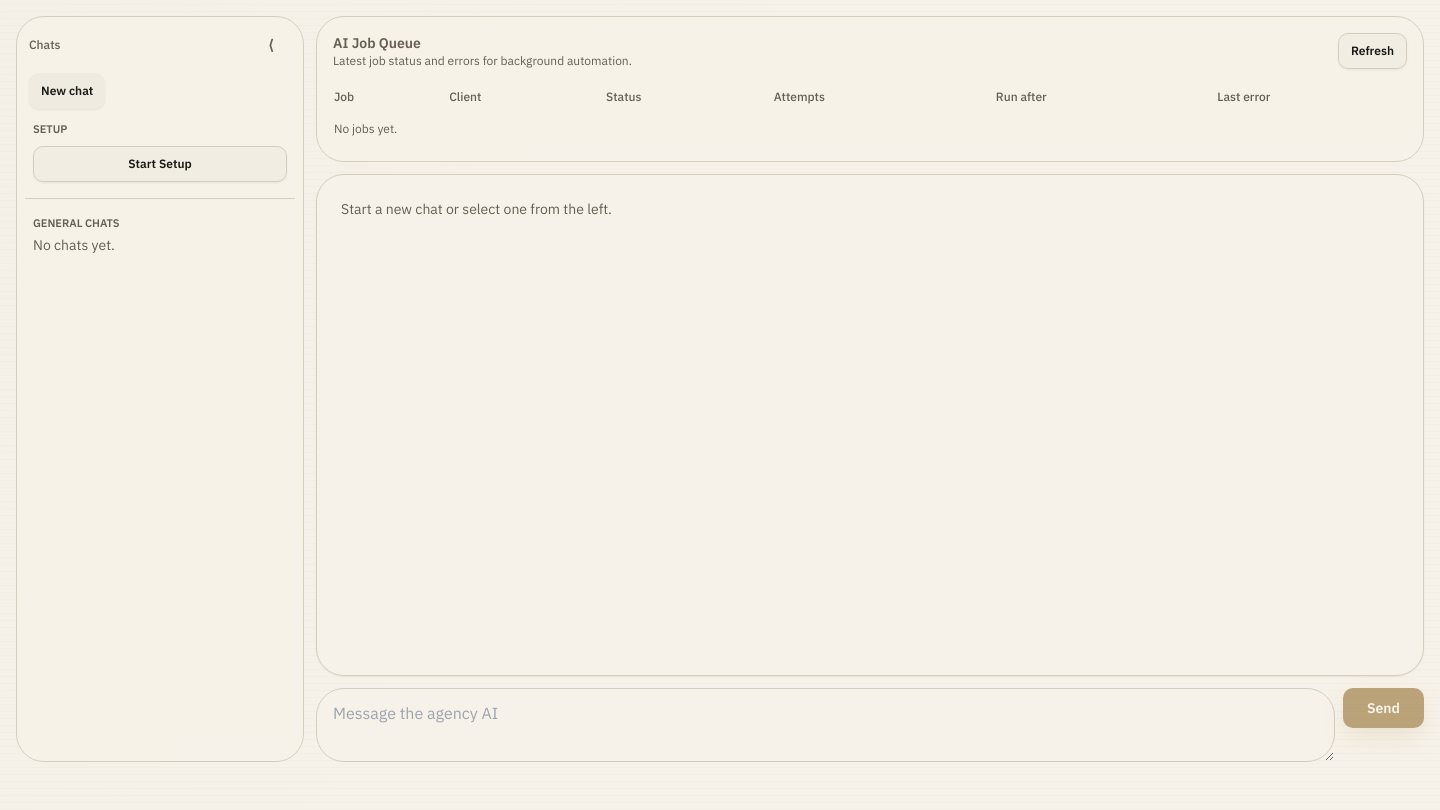
Scenario: AgencyAiAdmin › sends suggestion user_message when clicked
This screenshot has width=1440, height=810.
Click the button "New chat": (67, 91) 29,73 -> 105,109
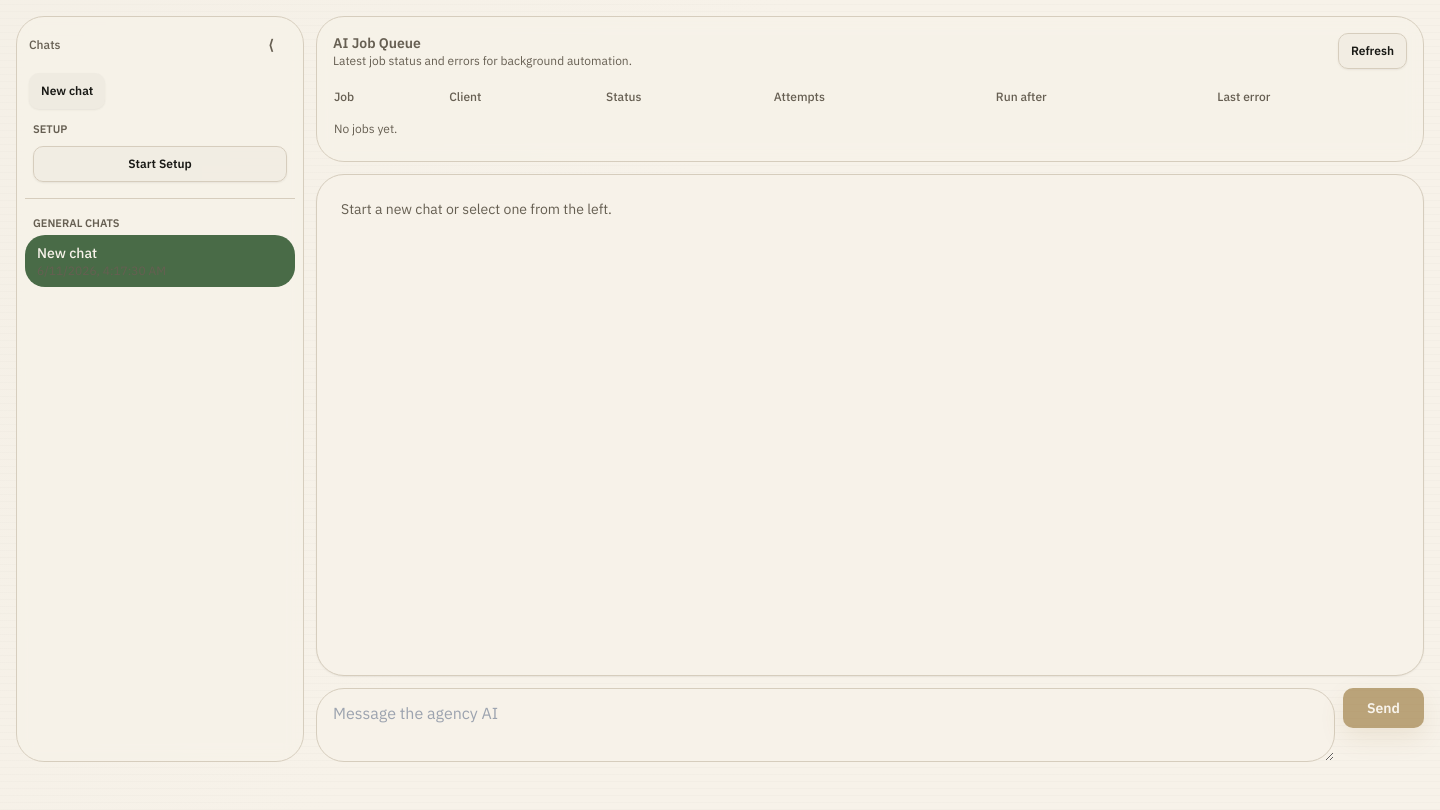
In the text box with placeholder "Message the agency AI": (826, 725) 316,688 -> 1335,762, type "Hello"
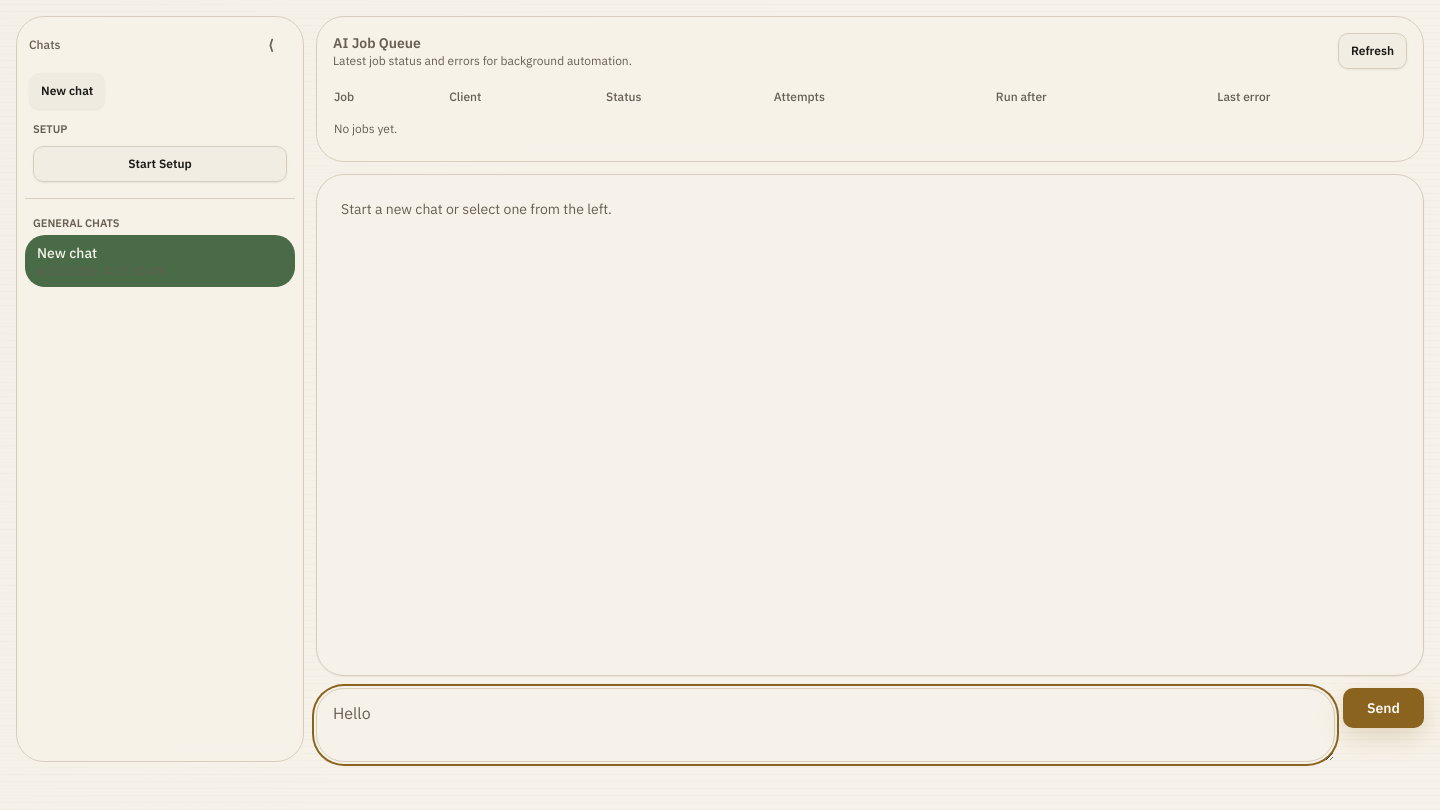
Click the button "Send": (1384, 708) 1343,688 -> 1424,728
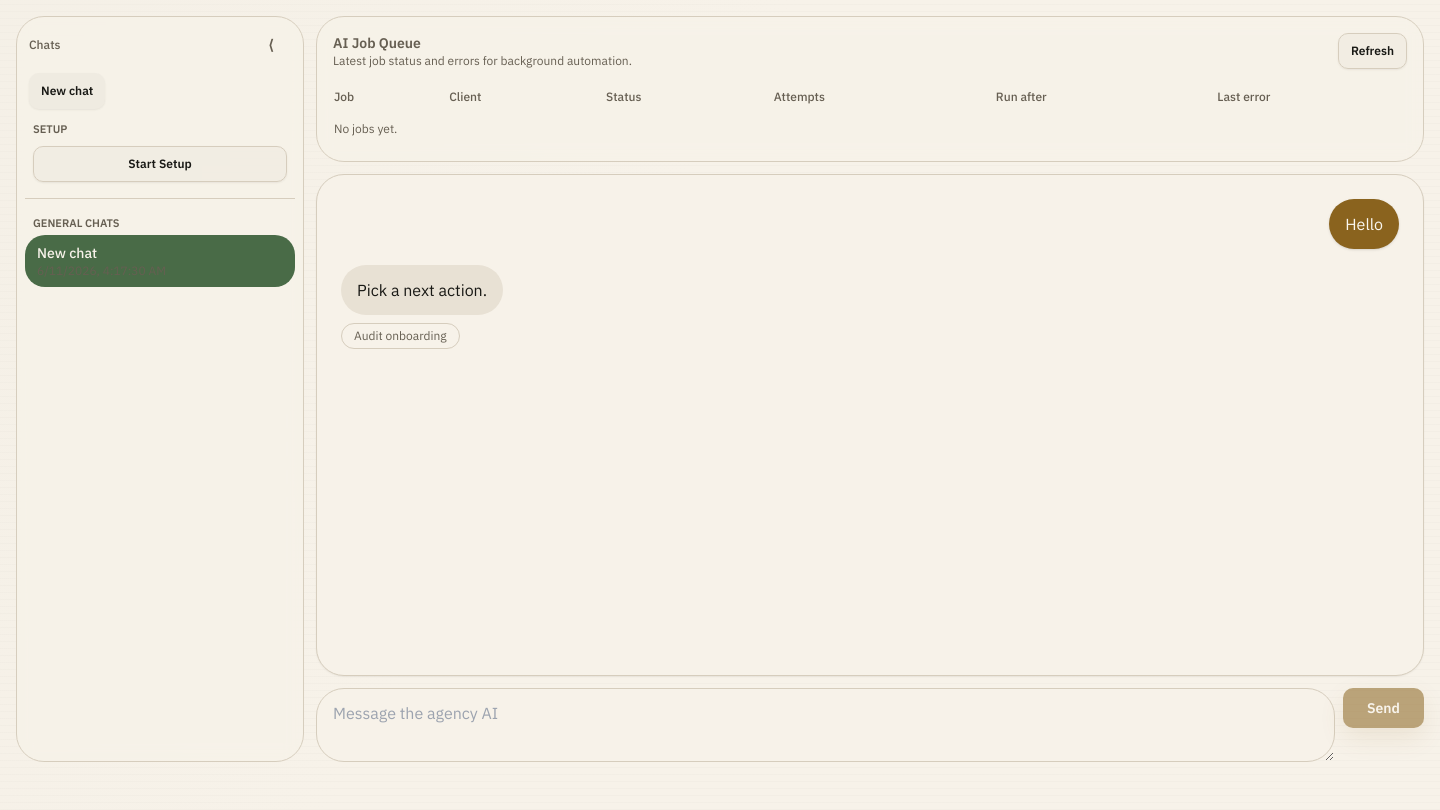
Click the button "Audit onboarding": (400, 336) 341,323 -> 460,349
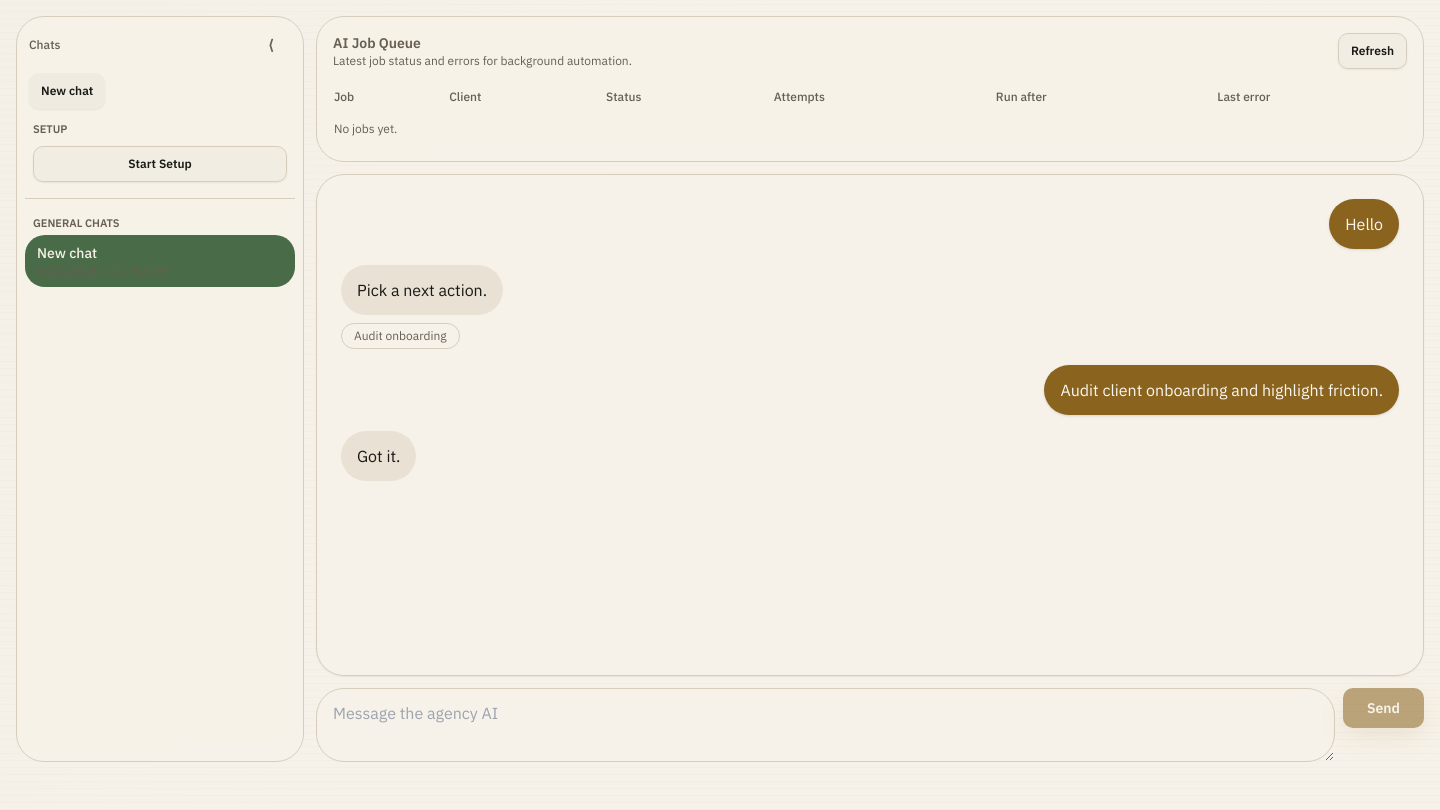
Now the text "Audit client onboarding and highlight friction." is shown, box 1044,365 -> 1399,415
